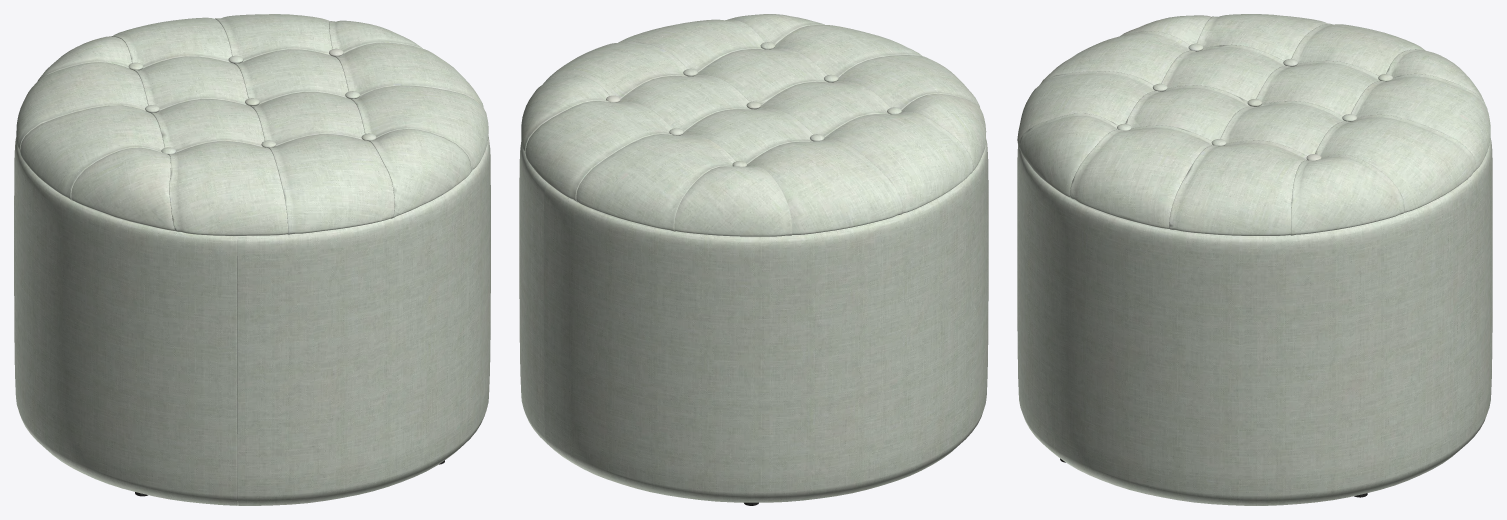
Rendered from B07DBGHZDZ.glb.
3 views of the same model, side by side, from view 1: azimuth 30°, elevation 25°; view 2: azimuth 150°, elevation 25°; view 3: azimuth 270°, elevation 25° (orthographic).
Visible parts, largest first — view 1: RootNode; view 2: RootNode; view 3: RootNode.
Boxes of the visible parts, x1,y1,x2,y2 form: RootNode: (14,14,490,505); RootNode: (519,14,988,505); RootNode: (1017,14,1492,505).
Size of the model in its own units: 0.5996 by 0.453 by 0.5996.
1 material, 1 textured.
